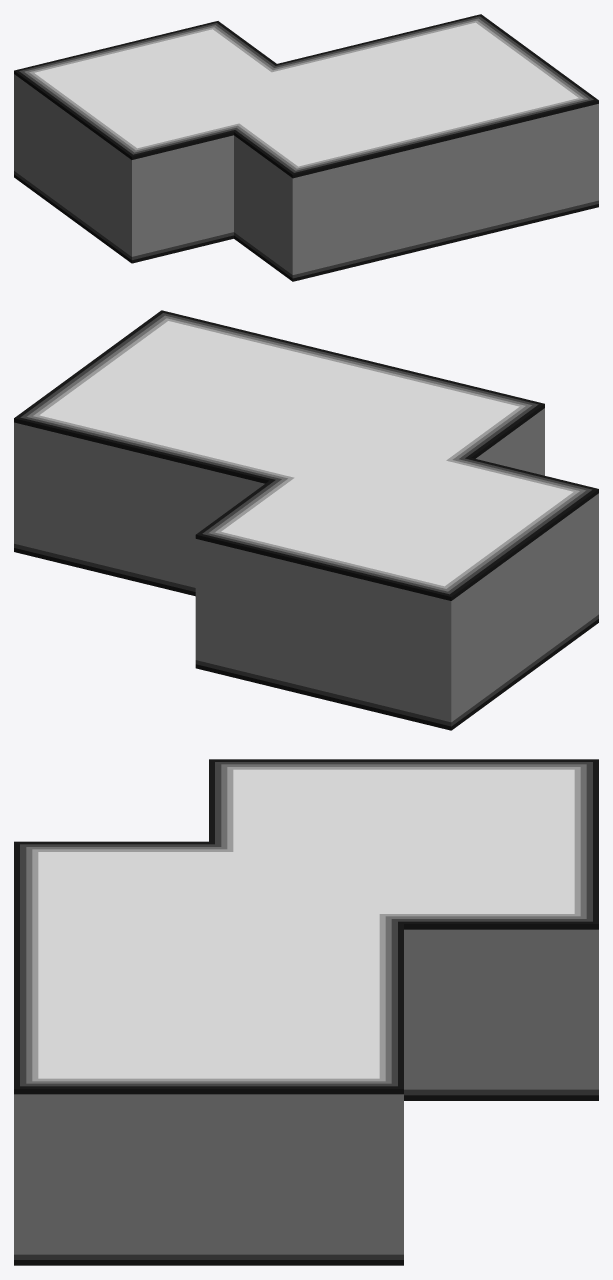
The model's file is Separador 3.obj.
The picture shows the model from 3 angles, top to bottom: view 1: azimuth 30°, elevation 25°; view 2: azimuth 150°, elevation 25°; view 3: azimuth 270°, elevation 25°; orthographic projection. The views are drawn at different scales.
Size of the model in its own units: 12.8 by 3.2 by 9.6.
Materials: 1 (1 with a texture image).
